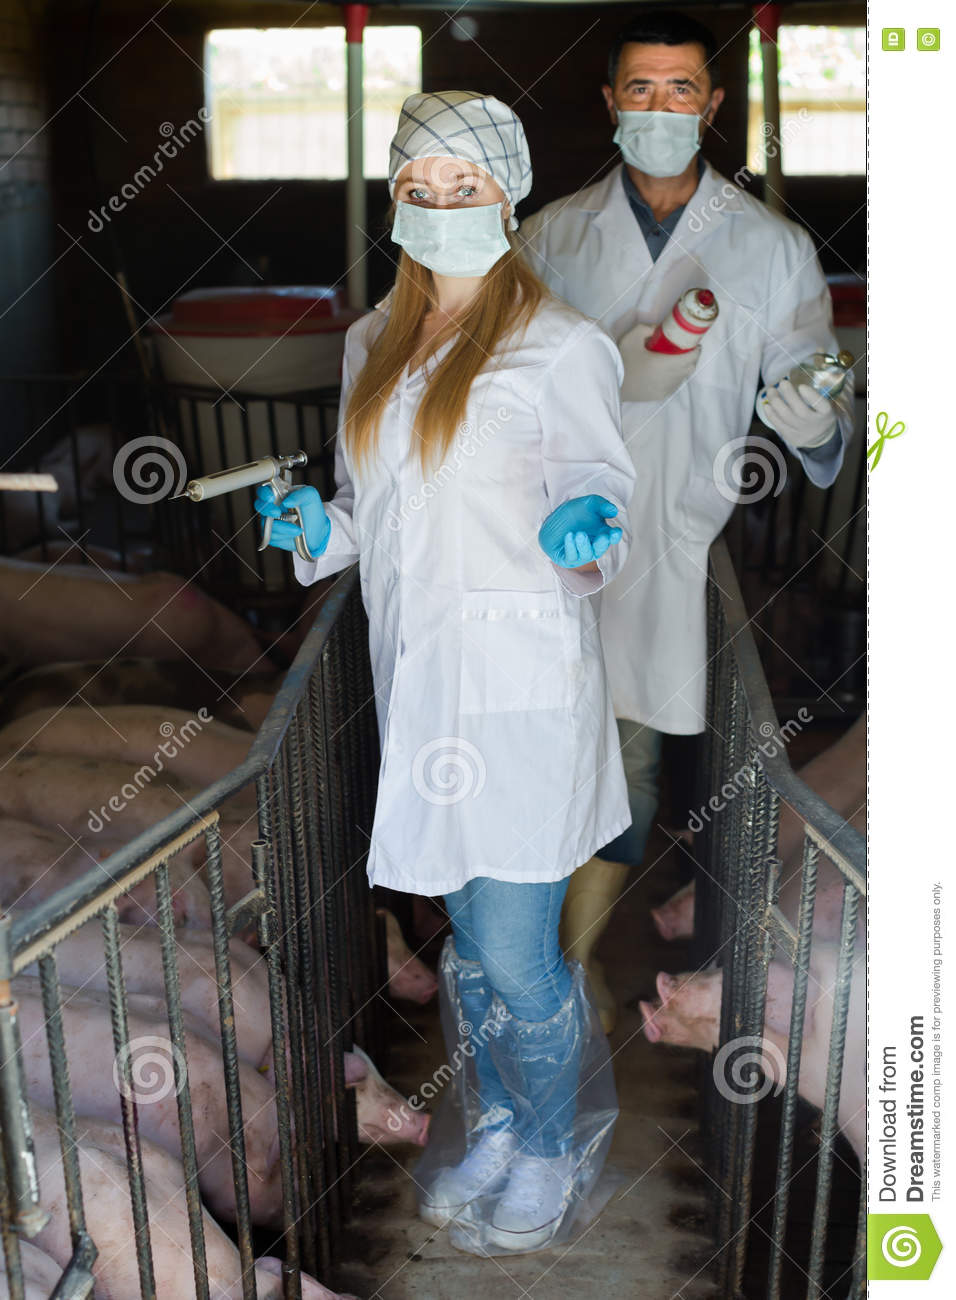mask: (392, 207, 512, 289), (608, 105, 700, 173)
